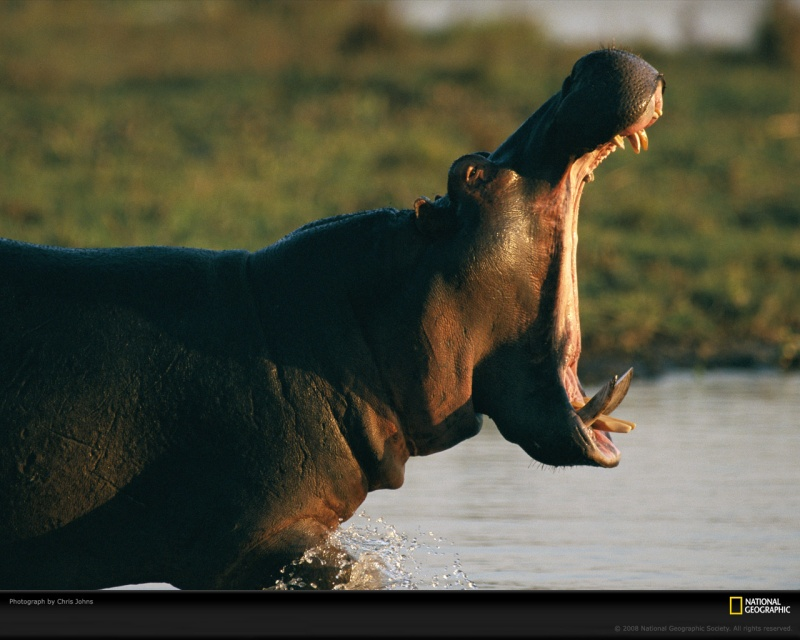hipopotamo: (0, 44, 666, 588)
